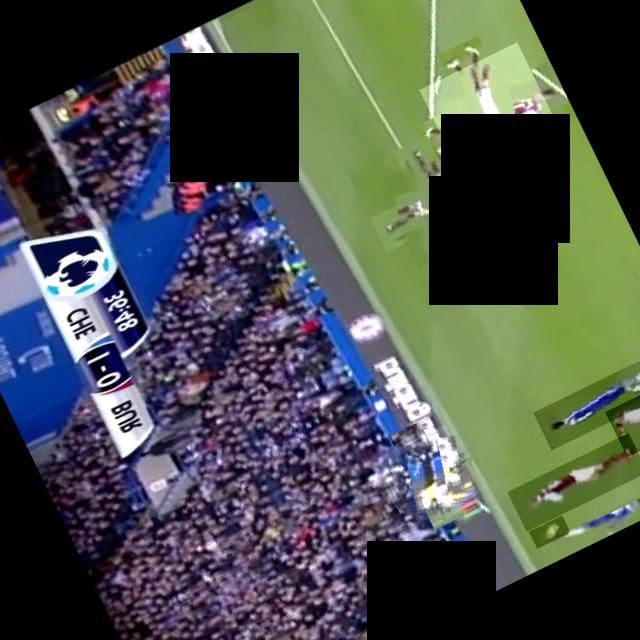ball: (528, 516, 570, 548)
referee: (375, 424, 477, 528)
soccer-player: (418, 42, 563, 187), (376, 141, 502, 269), (506, 432, 640, 531), (532, 352, 640, 450), (539, 486, 640, 564), (604, 366, 640, 457)
